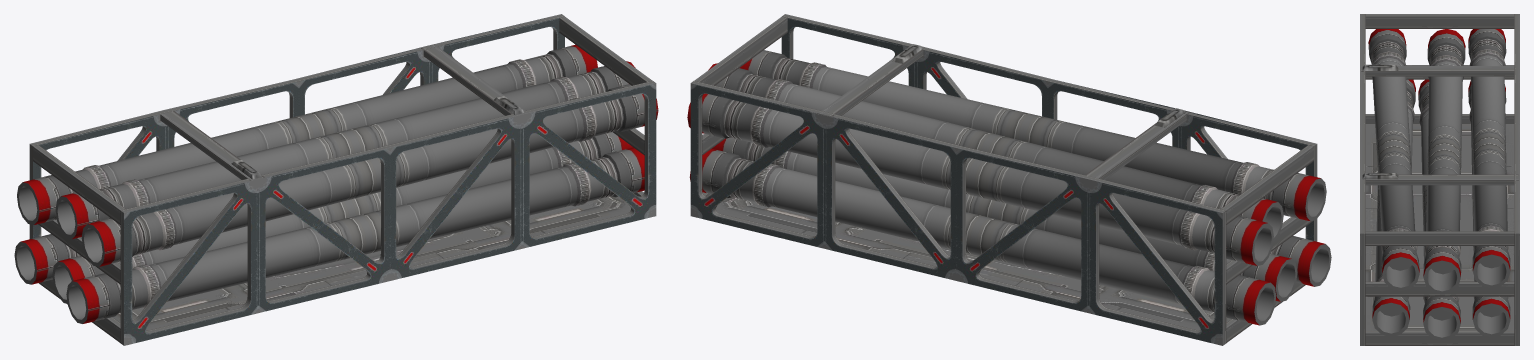
Rendered from pipes.glb.
The picture shows the model from 3 angles, left to right: view 1: azimuth 30°, elevation 25°; view 2: azimuth 150°, elevation 25°; view 3: azimuth 270°, elevation 25°; orthographic projection. The views are drawn at different scales.
Visible parts, largest first — view 1: Prop_PipeHolder; view 2: Prop_PipeHolder; view 3: Prop_PipeHolder.
Part boxes in pixels (x1=…): Prop_PipeHolder: x1=14, y1=14, x2=658, y2=345; Prop_PipeHolder: x1=687, y1=14, x2=1331, y2=345; Prop_PipeHolder: x1=1360, y1=14, x2=1519, y2=345.
Size of the model in its own units: 4.12 by 0.9274 by 1.16.
Materials: 3 (3 with a texture image).
